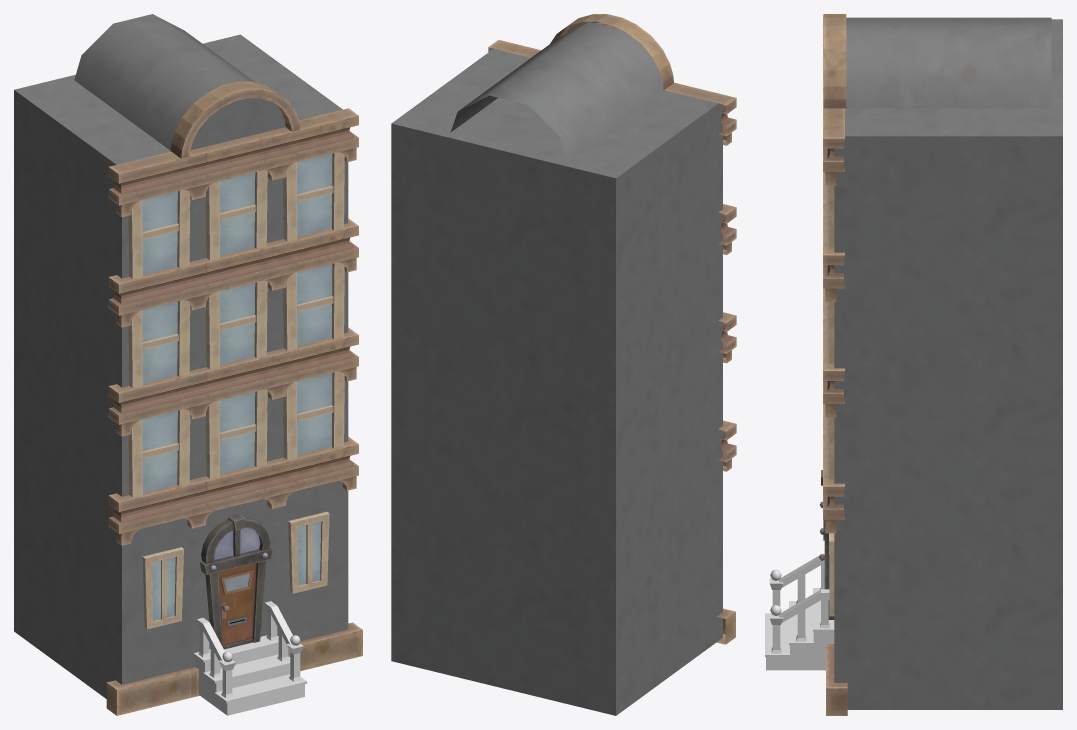
File: Ev_Alleybuilding_2.fbx
3 renders of one model, left to right at view 1: azimuth 30°, elevation 25°; view 2: azimuth 150°, elevation 25°; view 3: azimuth 270°, elevation 25°, orthographic. The views are drawn at different scales.
Parts seen in each view (by area): view 1: Object072, Box890, Cylinder046, P_Frame_100, P_Frame_097, P_Frame_098, P_Frame_096, P_Door_007, Box891, P_Frame_099, P_Window_078, P_Window_079 (+16 smaller); view 2: Object072, Box890, Cylinder046, P_Frameupper_012, P_Frame_100; view 3: Object072, Box890, Cylinder046, Box891, P_Frameupper_012, Box892, P_Frame_100, Box893, P_Frame_099, P_Frame_096, P_Frame_098, P_Frame_097 (+5 smaller).
Boxes of the visible parts, x1=… form: Object072: x1=14, y1=34, x2=348, y2=512; Box890: x1=14, y1=439, x2=348, y2=698; Cylinder046: x1=74, y1=14, x2=285, y2=150; P_Frame_100: x1=108, y1=108, x2=358, y2=205; P_Frame_097: x1=108, y1=327, x2=358, y2=424; P_Frame_098: x1=108, y1=436, x2=358, y2=533; P_Frame_096: x1=108, y1=218, x2=358, y2=315; P_Door_007: x1=199, y1=514, x2=272, y2=649; Box891: x1=193, y1=635, x2=307, y2=715; P_Frame_099: x1=106, y1=622, x2=362, y2=715; P_Window_078: x1=206, y1=170, x2=267, y2=260; P_Window_079: x1=283, y1=152, x2=344, y2=241; Object072: x1=391, y1=48, x2=722, y2=524; Box890: x1=391, y1=448, x2=722, y2=715; Cylinder046: x1=450, y1=22, x2=663, y2=160; P_Frameupper_012: x1=550, y1=14, x2=673, y2=90; P_Frame_100: x1=488, y1=40, x2=736, y2=136; Object072: x1=834, y1=19, x2=1062, y2=506; Box890: x1=834, y1=506, x2=1062, y2=709; Cylinder046: x1=846, y1=17, x2=1051, y2=108; Box891: x1=765, y1=588, x2=834, y2=670; P_Frameupper_012: x1=823, y1=14, x2=846, y2=108; Box892: x1=769, y1=589, x2=829, y2=653; P_Frame_100: x1=823, y1=14, x2=844, y2=171; Box893: x1=769, y1=554, x2=824, y2=606; P_Frame_099: x1=826, y1=644, x2=847, y2=715; P_Frame_096: x1=823, y1=172, x2=844, y2=288; P_Frame_098: x1=823, y1=404, x2=844, y2=519; P_Frame_097: x1=823, y1=288, x2=844, y2=403.
Size of the model in its own units: 32 by 74.02 by 31.68.
